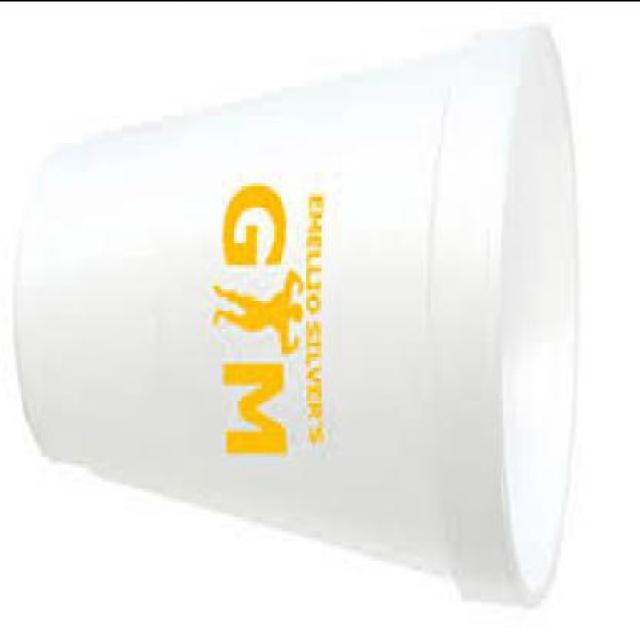PAPER: (17, 25, 580, 604)
